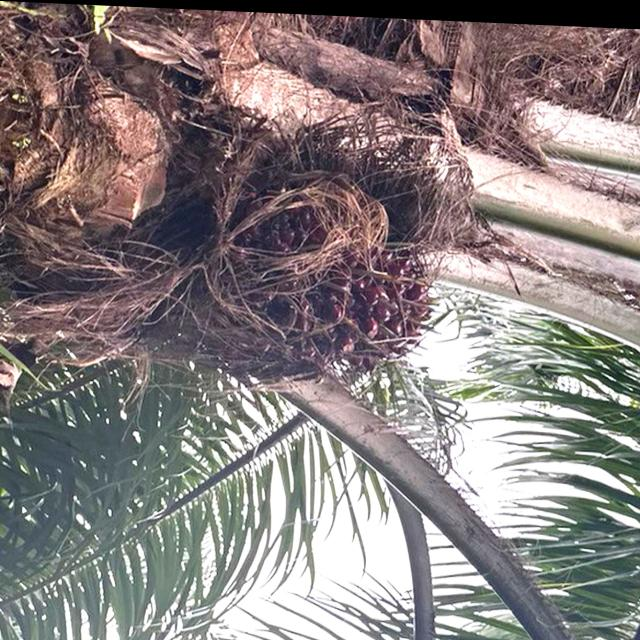ripe: (205, 161, 448, 397)
